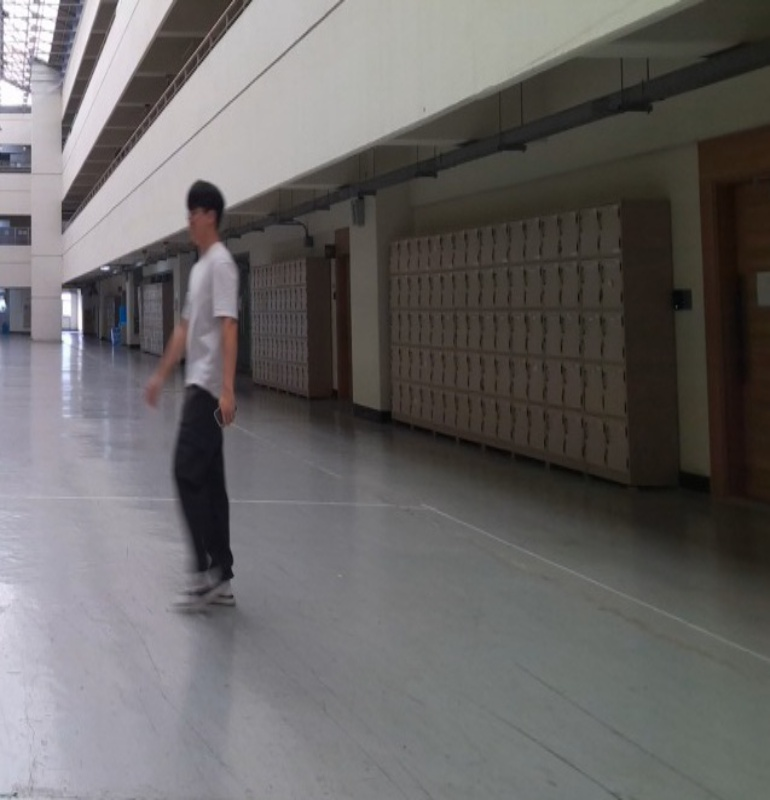person: (139, 179, 245, 611)
